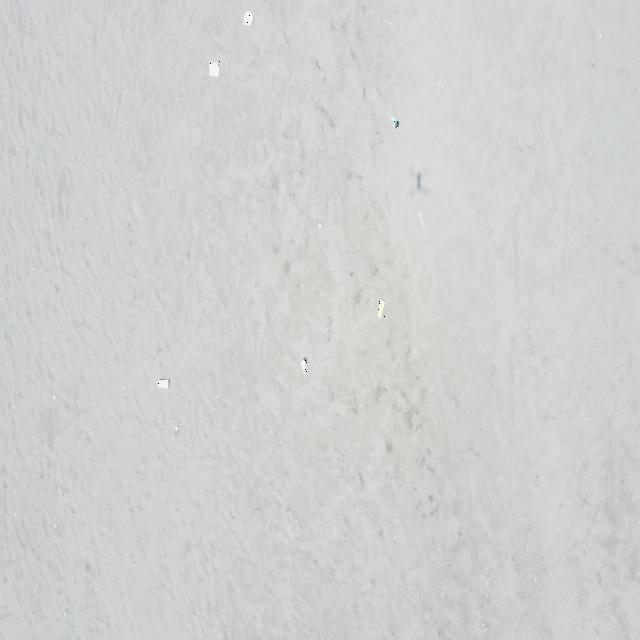take-away-containers: (208, 61, 220, 78), (243, 9, 254, 27)
takeaway-cup: (417, 210, 427, 230), (172, 421, 182, 441), (156, 378, 170, 391), (378, 301, 386, 320), (390, 116, 400, 129), (300, 359, 308, 372)
